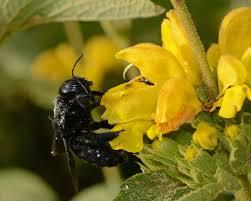Xylocopa: (48, 52, 117, 187)
